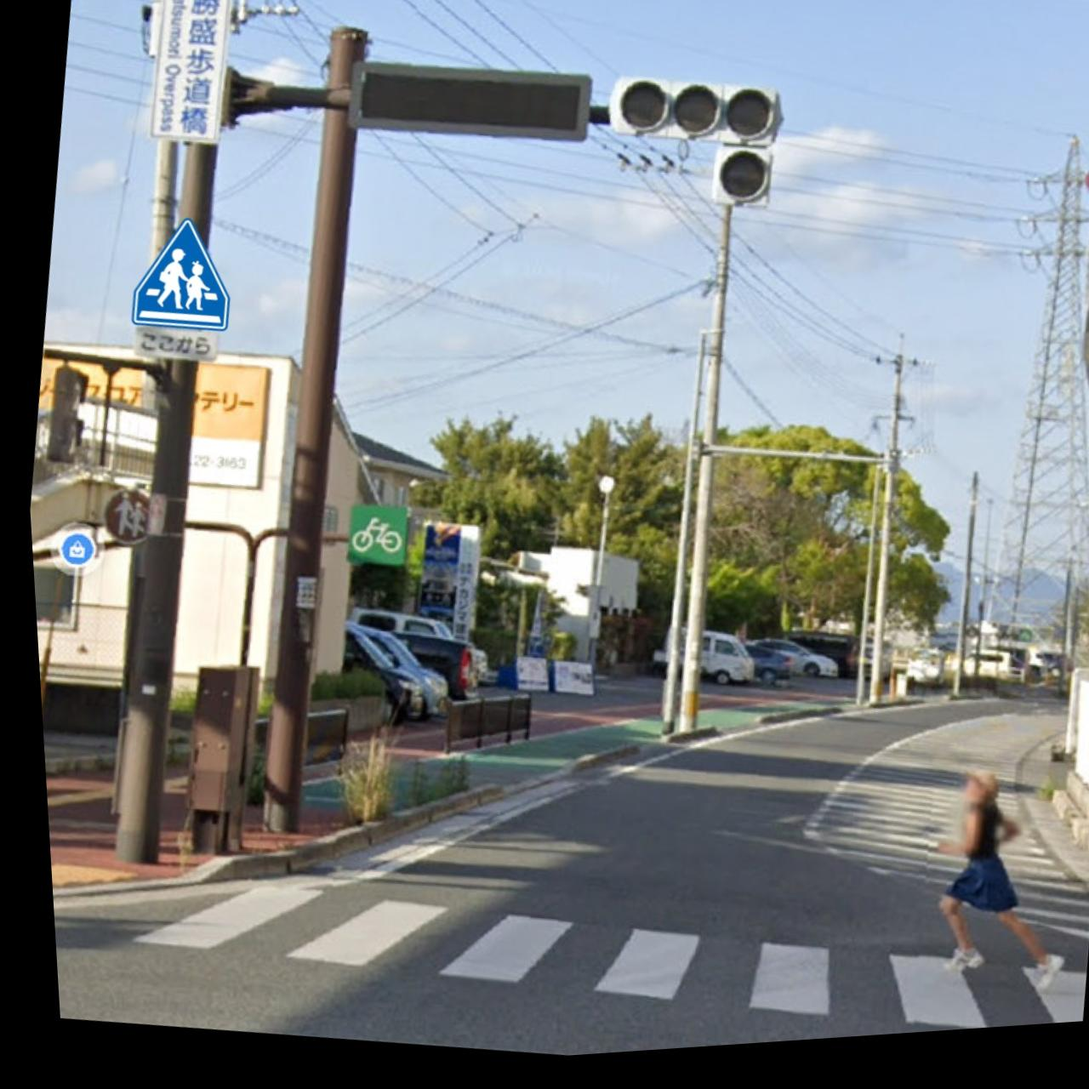cone: (68, 127, 202, 451)
